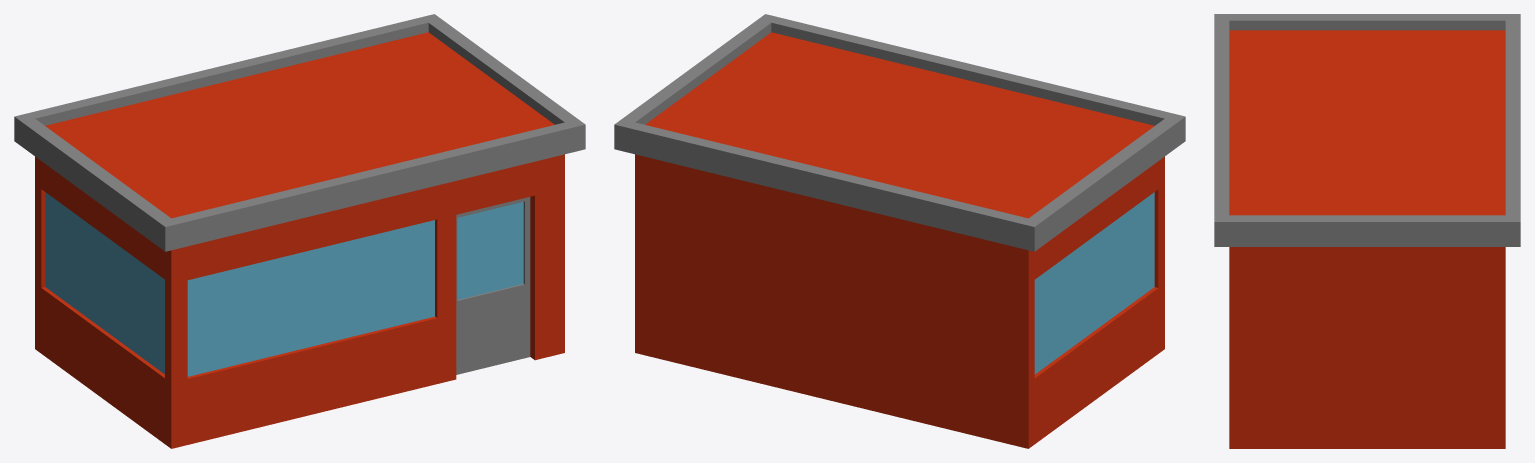
File: building_1.fbx
The picture shows the model from 3 angles, left to right: view 1: azimuth 30°, elevation 25°; view 2: azimuth 150°, elevation 25°; view 3: azimuth 270°, elevation 25°; orthographic projection.
Parts seen in each view (by area): view 1: building_1; view 2: building_1; view 3: building_1.
Boxes of the visible parts, x1,y1,x2,y2 form: building_1: (14, 14, 585, 448); building_1: (614, 14, 1185, 448); building_1: (1214, 14, 1520, 448).
Size of the model in its own units: 534 by 280 by 333.
